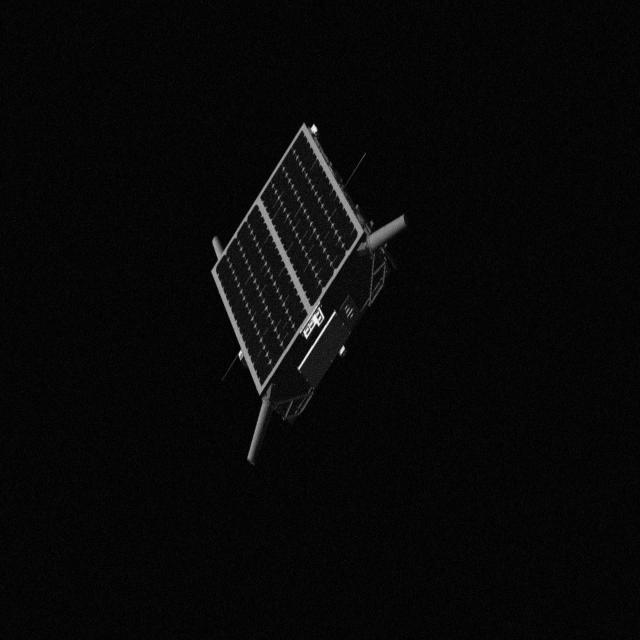medium_debris: (202, 108, 414, 474)
